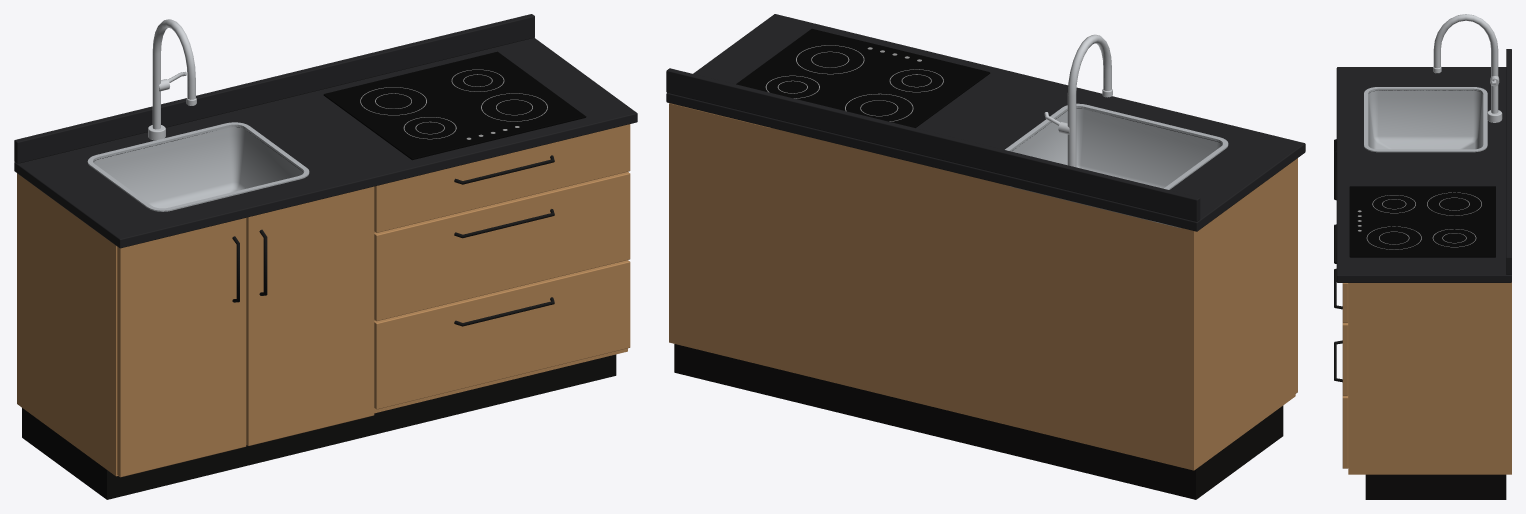
The model's file is cozinha.glb.
The picture shows the model from 3 angles, left to right: view 1: azimuth 30°, elevation 25°; view 2: azimuth 150°, elevation 25°; view 3: azimuth 270°, elevation 25°; orthographic projection. The views are drawn at different scales.
Parts seen in each view (by area): view 1: tampo, porta0, porta1, caixa, gaveta1, gaveta2, cooktop, rodape, espelho, gaveta0, cuba, torneira; view 2: caixa, tampo, rodape, espelho, cooktop, cuba, torneira, porta0; view 3: caixa, tampo, cooktop, cuba, rodape, espelho, torneira, gaveta2, gaveta1, gaveta0.
Boxes of the visible parts, <box> form: tampo: <box>14,38,637,248</box>; porta0: <box>117,218,246,477</box>; porta1: <box>246,186,374,445</box>; caixa: <box>17,173,627,476</box>; gaveta1: <box>374,172,630,321</box>; gaveta2: <box>374,260,630,409</box>; cooktop: <box>323,51,586,160</box>; rodape: <box>22,354,616,499</box>; espelho: <box>14,14,534,163</box>; gaveta0: <box>374,124,630,232</box>; cuba: <box>87,122,309,211</box>; torneira: <box>152,19,195,129</box>; caixa: <box>669,103,1295,470</box>; tampo: <box>666,14,1305,231</box>; rodape: <box>674,344,1283,499</box>; espelho: <box>666,68,1200,221</box>; cooktop: <box>736,28,990,127</box>; cuba: <box>1005,103,1228,227</box>; torneira: <box>1067,34,1111,167</box>; porta0: <box>1295,158,1297,393</box>; caixa: <box>1348,282,1511,474</box>; tampo: <box>1336,67,1511,282</box>; cooktop: <box>1349,186,1495,257</box>; cuba: <box>1364,87,1487,152</box>; rodape: <box>1365,474,1506,499</box>; espelho: <box>1506,49,1511,274</box>; torneira: <box>1433,14,1498,113</box>; gaveta2: <box>1342,395,1348,468</box>; gaveta1: <box>1342,323,1348,395</box>; gaveta0: <box>1342,283,1348,322</box>.
Size of the model in its own units: 1.72 by 1.28 by 0.6196.
